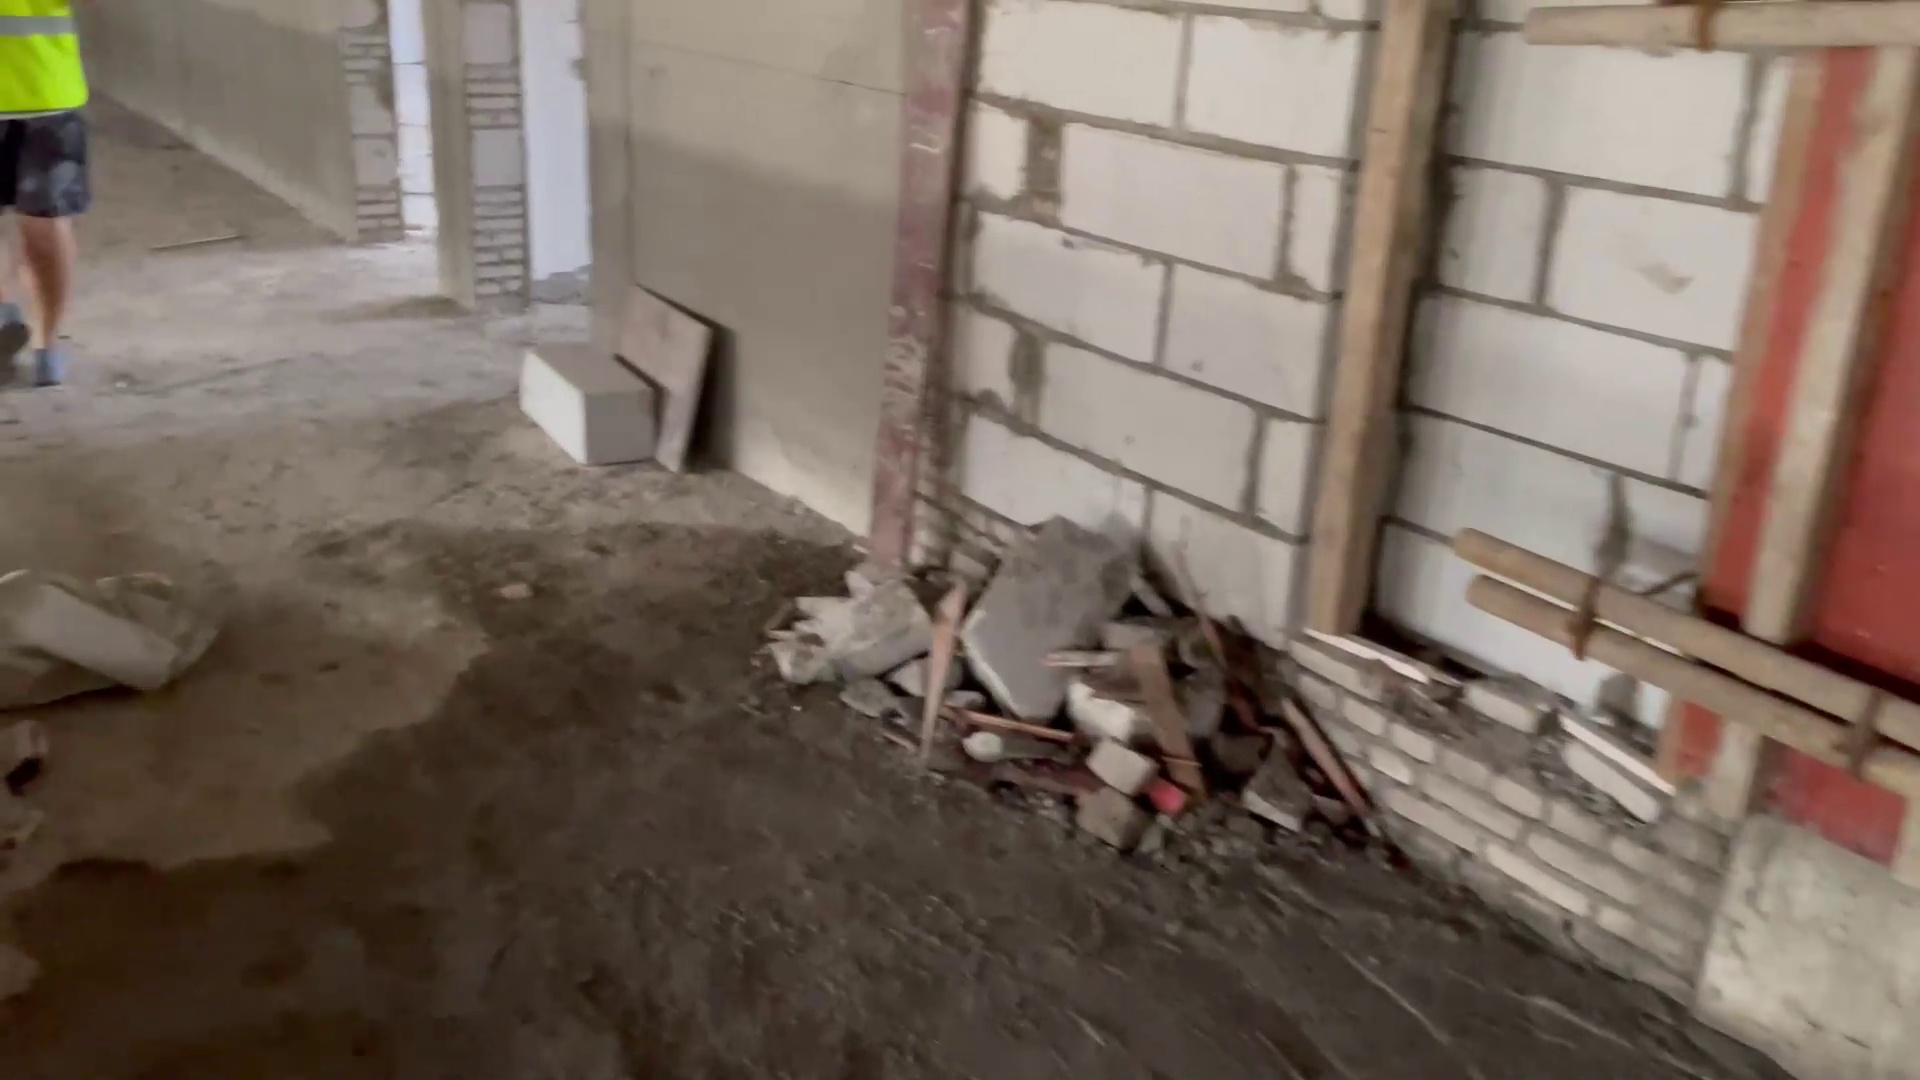person: (1, 16, 108, 380)
vest: (1, 5, 95, 115)
